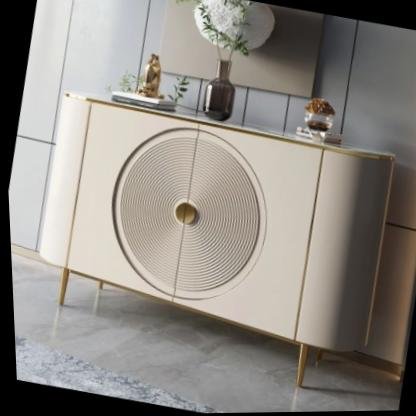Sideboard: (29, 92, 393, 390)
